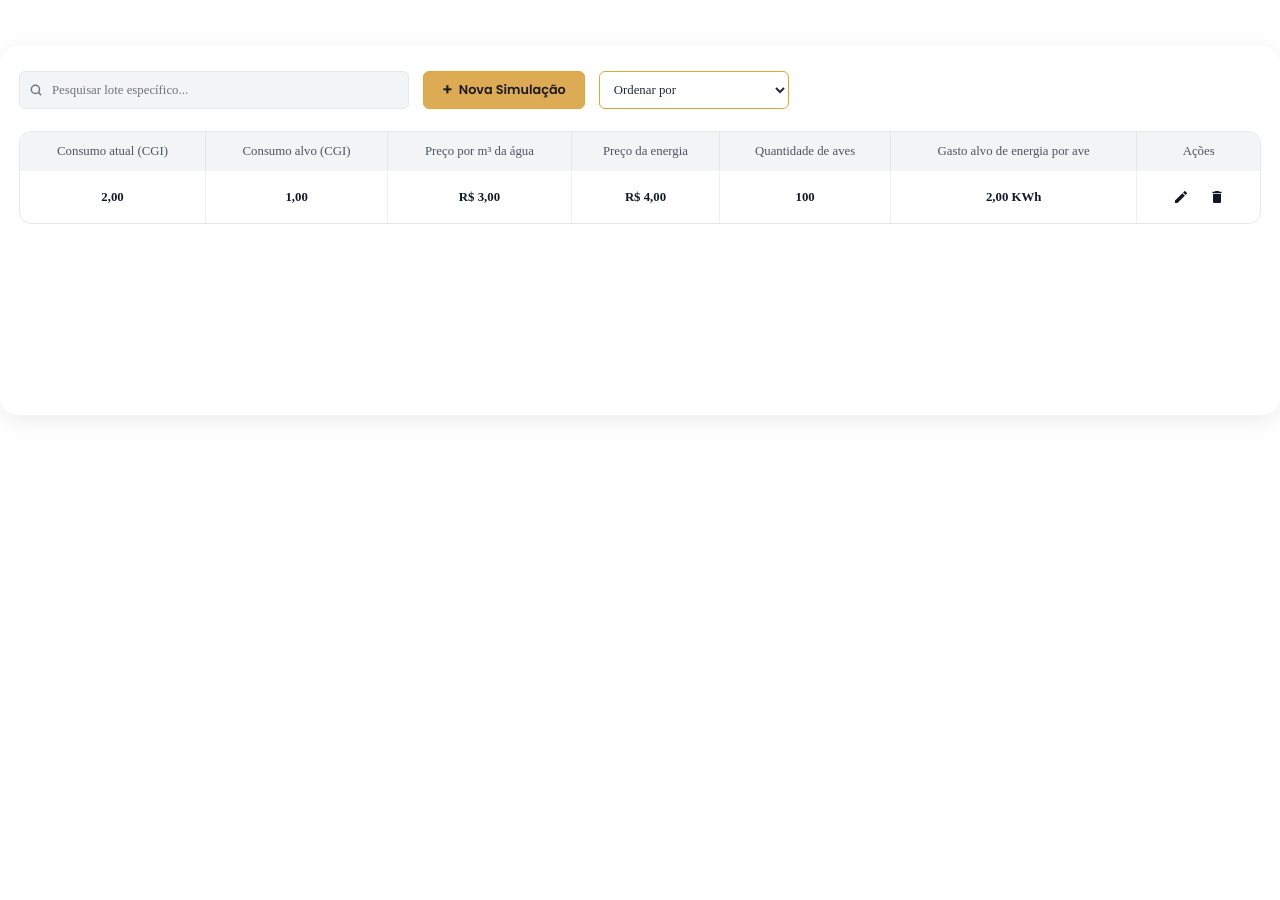
Test: Editar simulação do lote L1 › confirma exclusão e mostra falhas sem perder os dados
The image size is (1280, 900).
Click the button named "Excluir simulação do lote L1" at (1217, 197), box top-left (1201, 181), bottom-right (1233, 213)
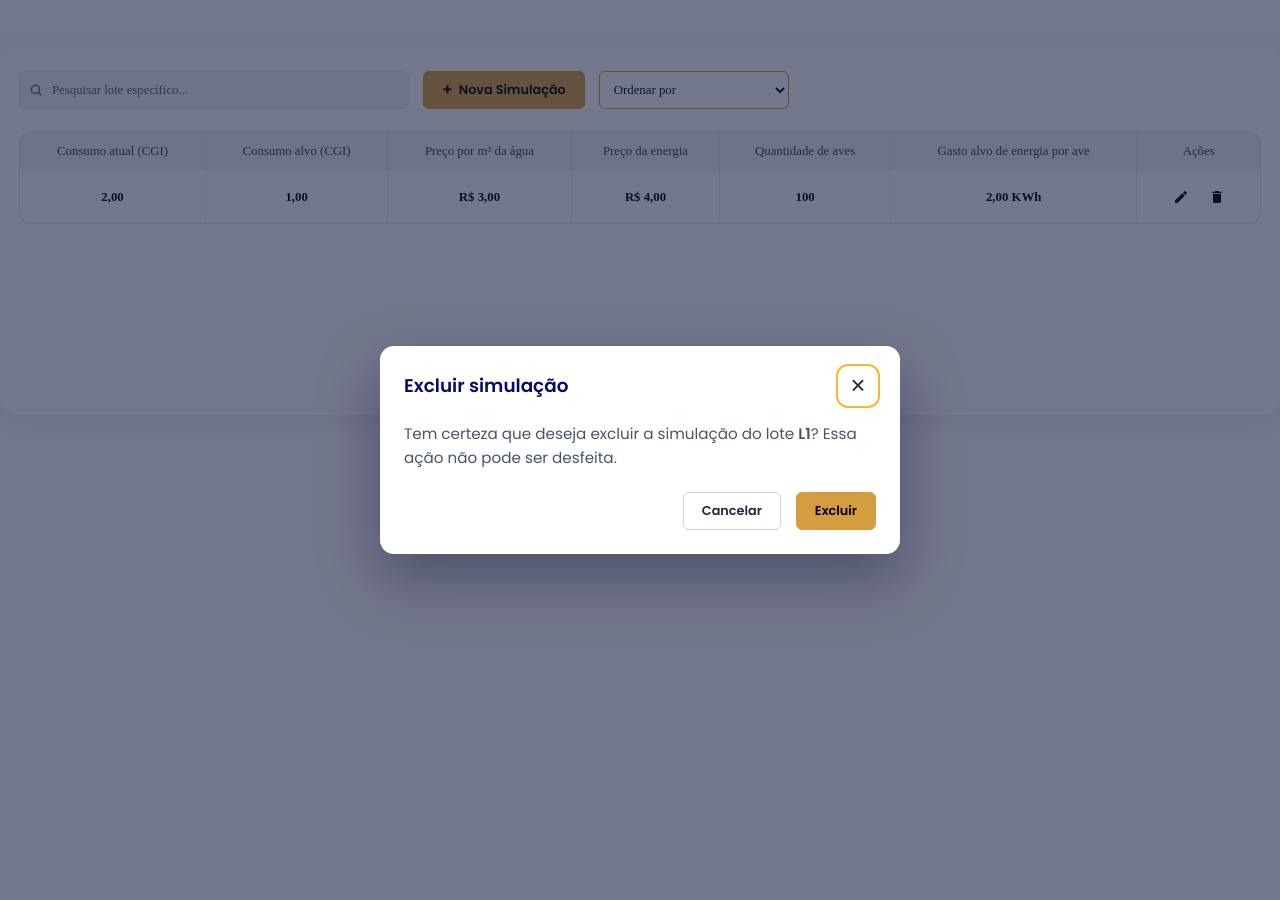
Click the button "Excluir" at (836, 511), box top-left (796, 492), bottom-right (876, 530)
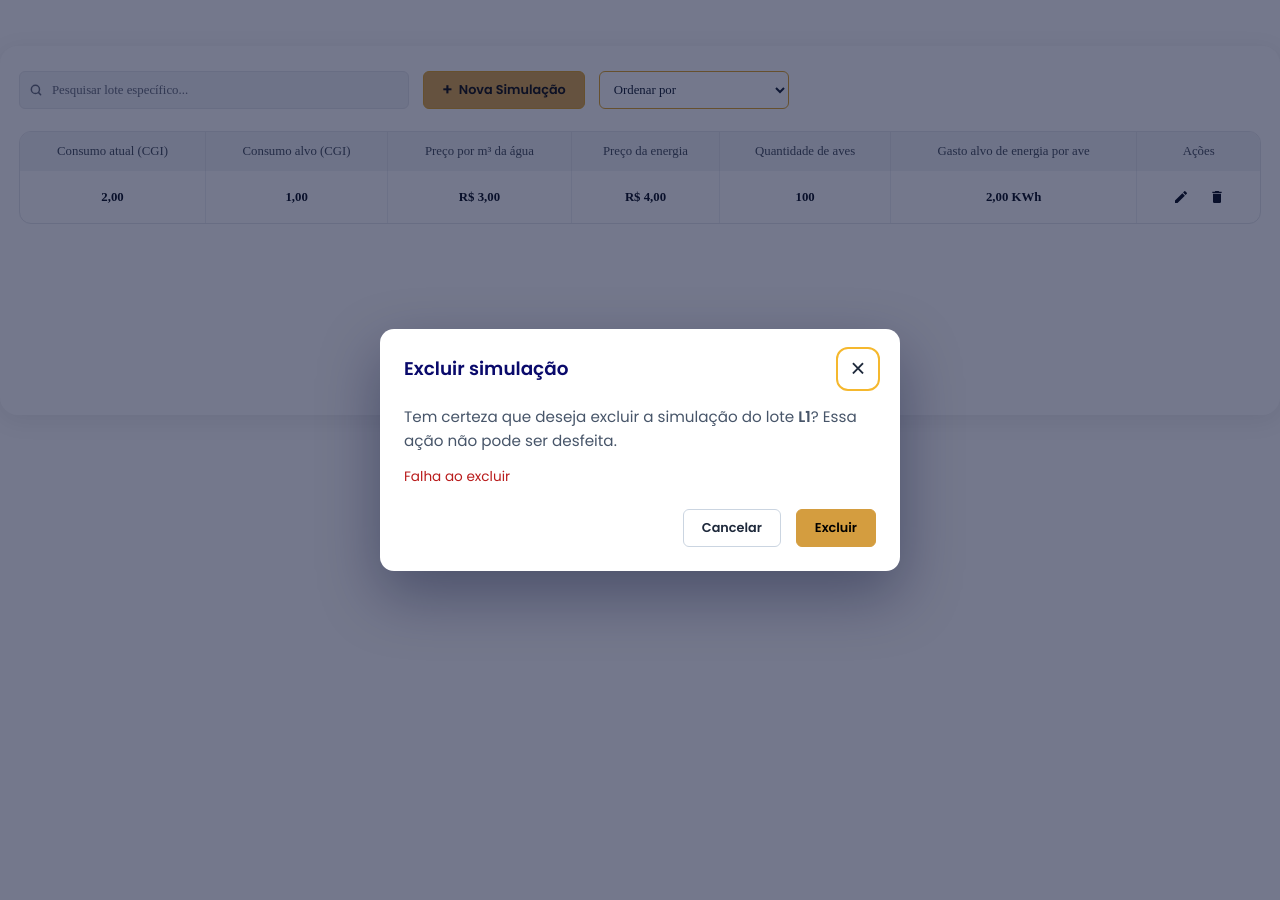
Now the text "Falha ao excluir" is shown, box top-left (404, 467), bottom-right (510, 486)
Click the button "Excluir" at (836, 528), box top-left (796, 509), bottom-right (876, 547)
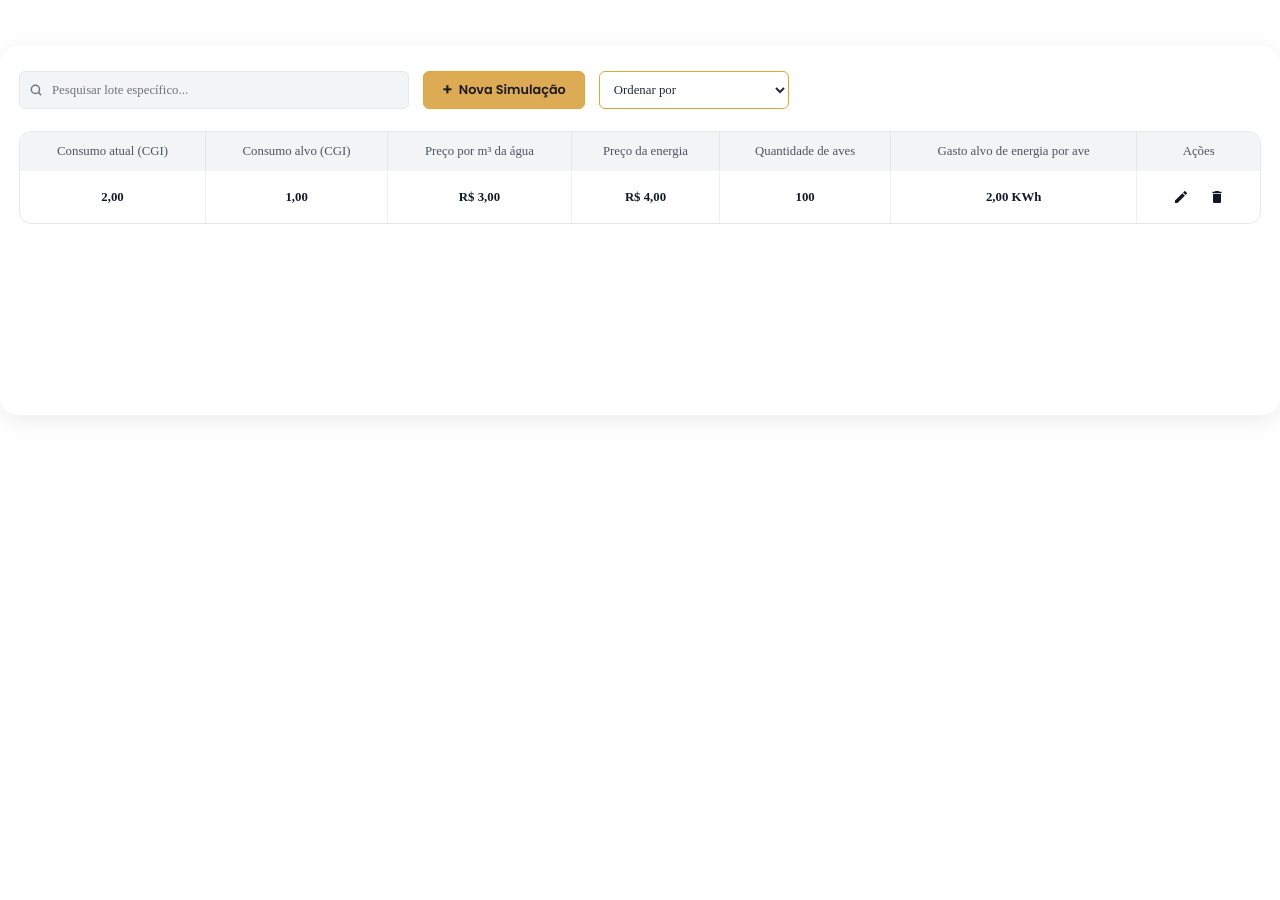
Now the dialog is gone
